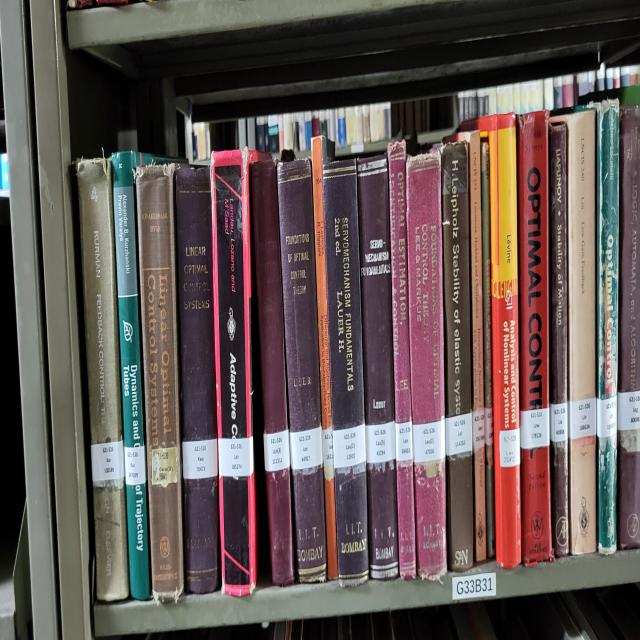Book: (76, 160, 129, 601), (135, 165, 184, 603), (276, 160, 326, 582), (211, 149, 258, 595), (550, 111, 596, 555), (322, 160, 369, 584), (478, 114, 521, 568), (250, 160, 295, 584), (175, 168, 219, 593), (406, 152, 448, 579), (111, 152, 150, 598), (358, 157, 399, 579), (516, 111, 552, 565), (441, 141, 474, 571), (388, 143, 416, 579), (311, 135, 338, 579), (459, 130, 486, 563), (596, 100, 620, 555), (618, 106, 640, 549), (481, 141, 495, 557)
Label: (218, 436, 254, 479), (412, 417, 445, 463), (182, 438, 218, 479), (332, 425, 366, 468), (91, 441, 124, 484), (290, 427, 322, 471), (520, 406, 550, 449), (365, 422, 396, 463), (445, 411, 472, 457), (151, 446, 178, 487), (569, 398, 596, 438), (264, 430, 290, 471), (596, 395, 618, 438), (124, 446, 146, 484), (500, 427, 520, 468), (395, 419, 412, 463), (550, 403, 568, 441), (322, 427, 334, 482), (472, 409, 485, 452), (484, 406, 494, 446)
